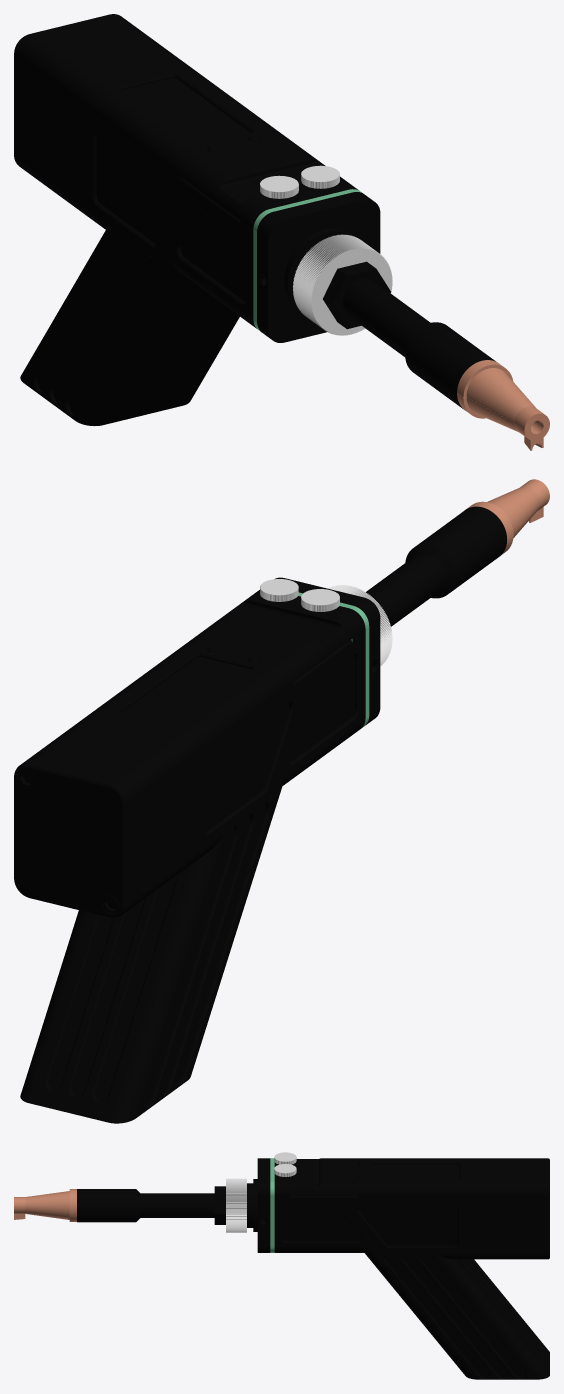
3 renders of one model, top to bottom at view 1: azimuth 30°, elevation 25°; view 2: azimuth 150°, elevation 25°; view 3: azimuth 270°, elevation 25°, orthographic. The views are drawn at different scales.
Size of the model in its own units: 0.027 by 0.0809 by 0.1955.
